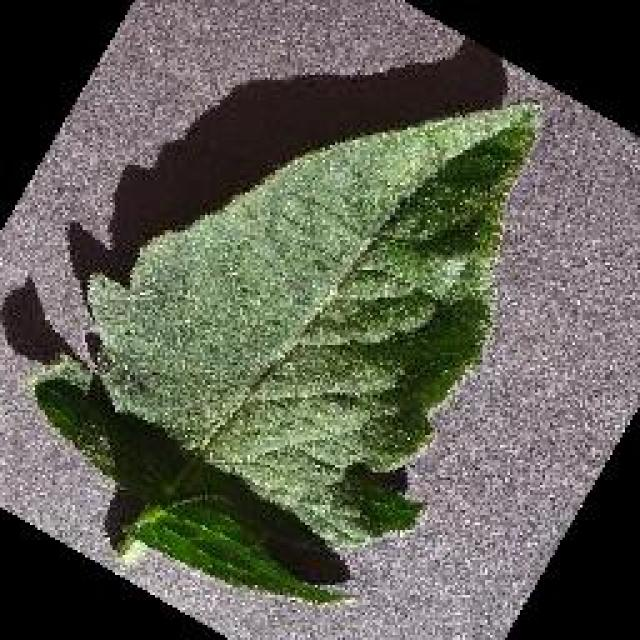Tomato___healthy: (29, 100, 548, 601)
